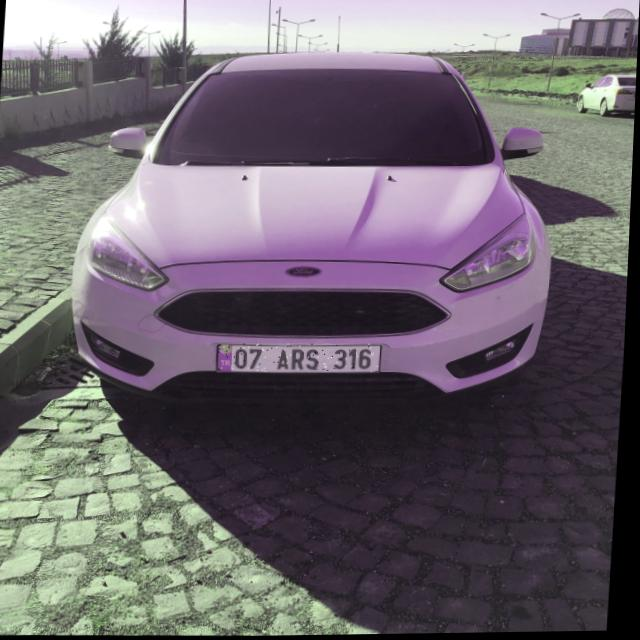license_plate: (220, 342, 384, 376)
